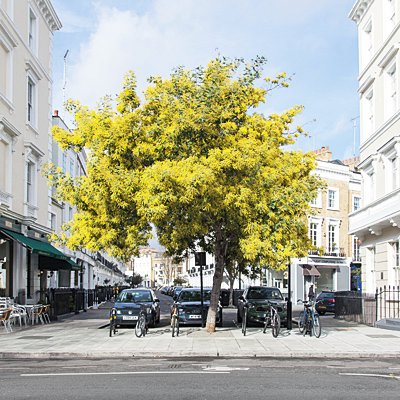tree: (38, 46, 330, 332)
